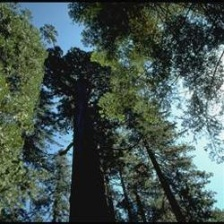neutral: (1, 4, 223, 220)
